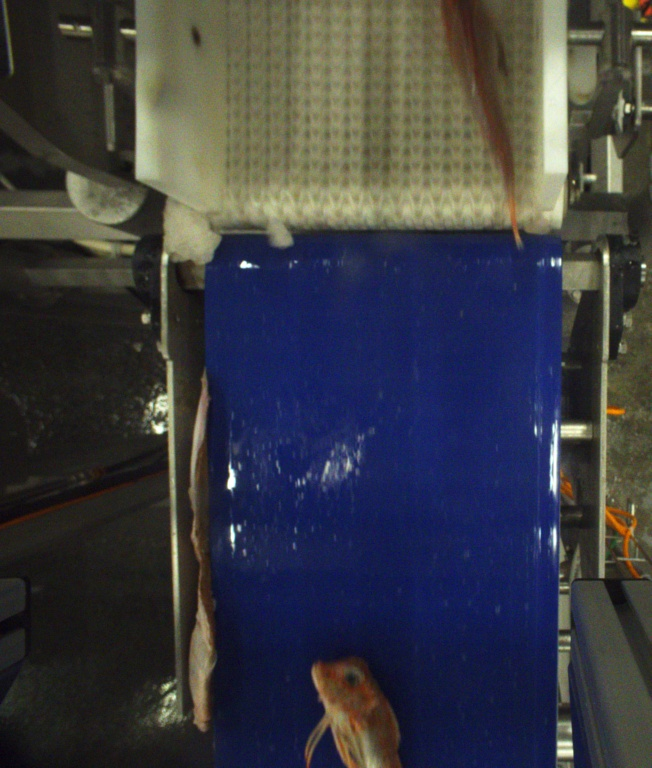GUU: (436, 0, 525, 249)
